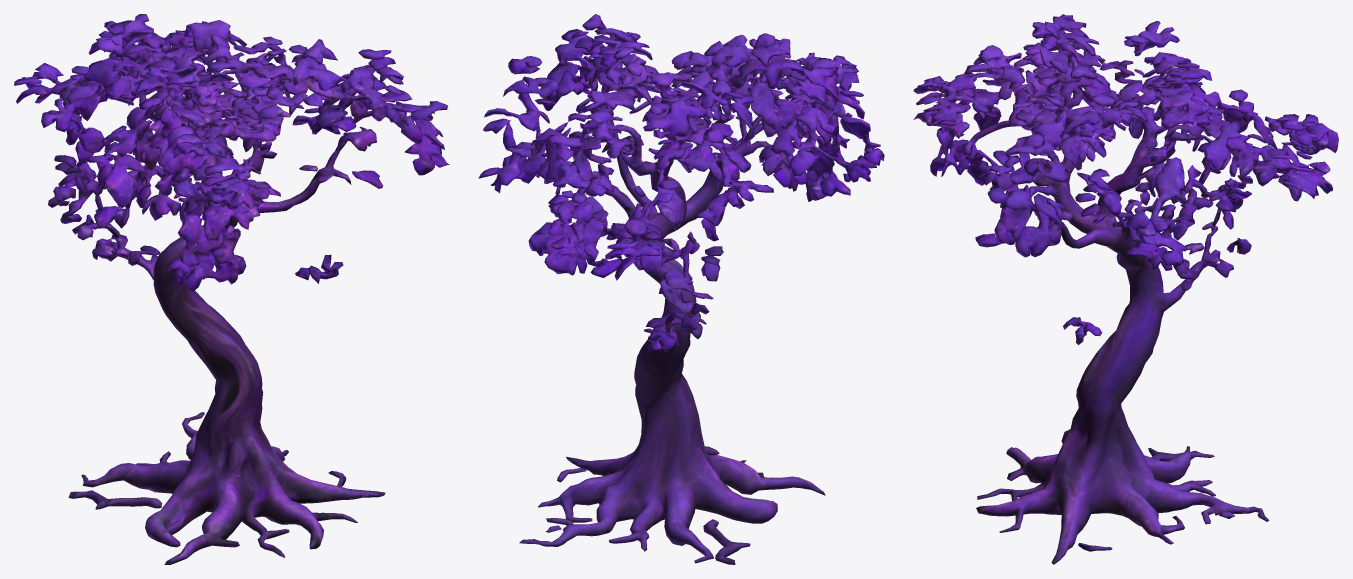
The model's file is AI_BioluminescentTree.fbx.
3 renders of one model, left to right at view 1: azimuth 30°, elevation 25°; view 2: azimuth 150°, elevation 25°; view 3: azimuth 270°, elevation 25°, orthographic. The views are drawn at different scales.
Parts seen in each view (by area): view 1: Mesh1.0; view 2: Mesh1.0; view 3: Mesh1.0.
Boxes of the visible parts, x1,y1,x2,y2 form: Mesh1.0: (14, 14, 449, 564); Mesh1.0: (478, 14, 884, 564); Mesh1.0: (913, 14, 1338, 564).
Size of the model in its own units: 141 by 199 by 170.
1 material, 1 textured.
